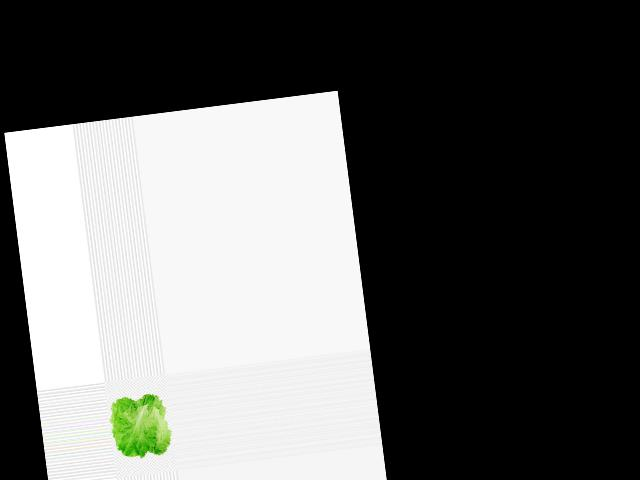lettuce: (105, 387, 176, 465)
